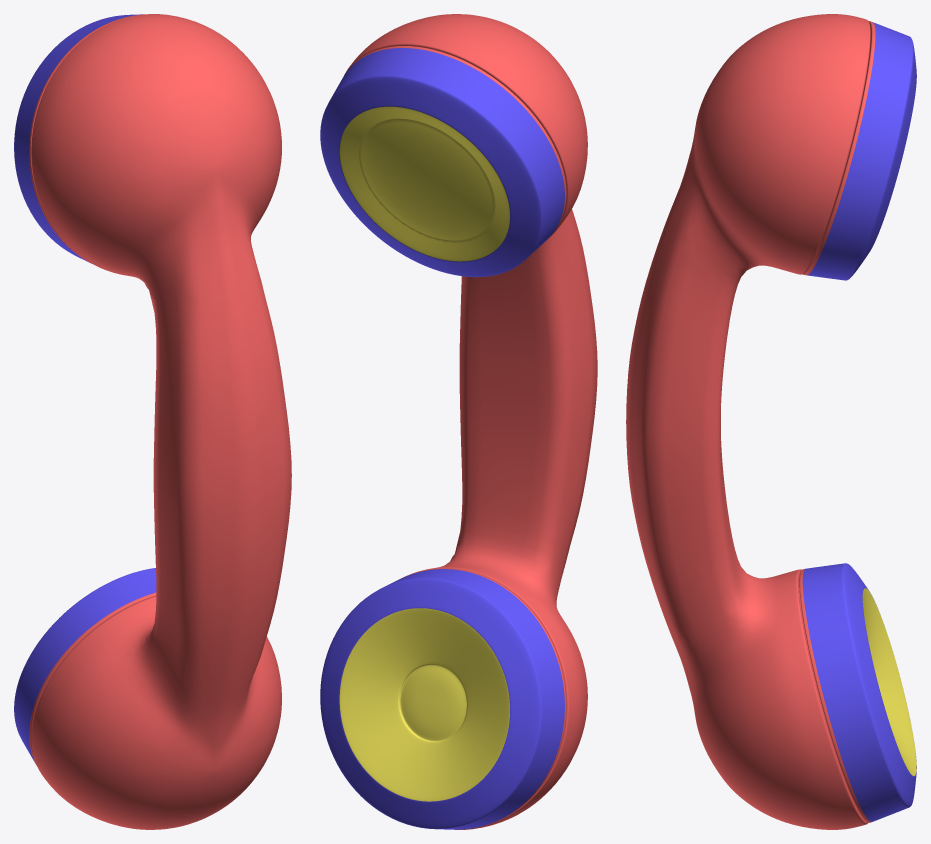
The model's file is LoopDreams_VR_Assets_R7_Phone.fbx.
The picture shows the model from 3 angles, left to right: view 1: azimuth 30°, elevation 25°; view 2: azimuth 150°, elevation 25°; view 3: azimuth 270°, elevation 25°; orthographic projection.
Visible parts, largest first — view 1: Phone; view 2: Phone; view 3: Phone.
Boxes of the visible parts, bbox=[...] form: Phone: bbox=[14, 14, 291, 829]; Phone: bbox=[320, 14, 597, 829]; Phone: bbox=[626, 14, 916, 829].
Bounding box in the file's own units: 19.81 × 65.47 × 21.81.
